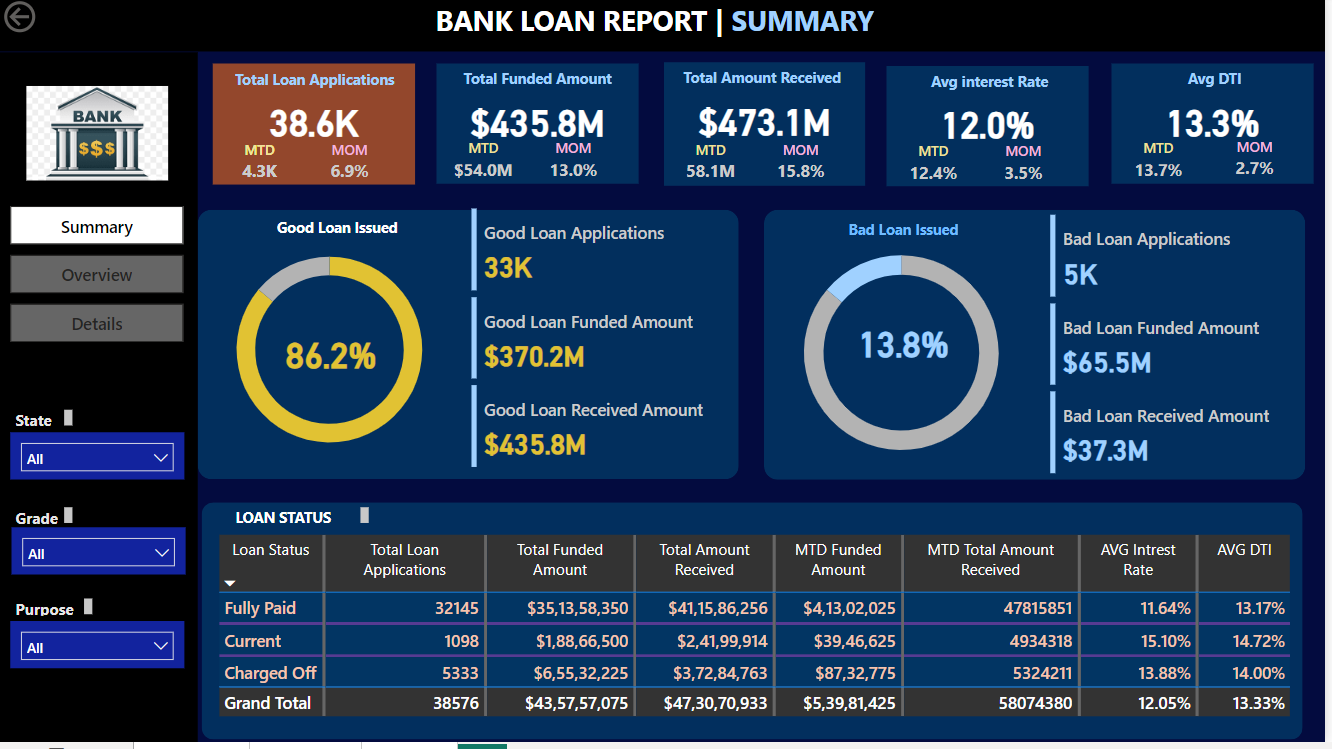

The dashboard page shown, as its layout file describes it:
{"tool":"powerbi","page":{"name":"Summary","canvas":[1280,720],"ordinal":0},"visuals":[{"type":"shape","box":[641.8,63.9,194.1,119.4],"z":0,"group":"g2"},{"type":"shape","box":[206.2,65.1,195.4,117],"z":0,"group":"g8"},{"type":"shape","box":[422.7,65.1,195,116],"z":0,"group":"g4"},{"type":"shape","box":[1073.4,65.1,195,116],"z":0,"group":"g5"},{"type":"shape","box":[856.9,67.5,195,116],"z":0,"group":"g7"},{"type":"shape","box":[191.8,206.2,522,260],"z":0},{"type":"shape","box":[0,0,1280.3,53.5],"z":1000},{"type":"card","fields":{"Values":["financial_loan.Total Amount Received"]},"box":[641.8,92.2,194.1,55.4],"z":1000,"group":"g2"},{"type":"card","fields":{"Values":["financial_loan.Total Funded Amount"]},"box":[422.7,92.6,195,53.8],"z":1000,"group":"g4"},{"type":"card","fields":{"Values":["financial_loan.AVG DTI"]},"box":[1073.4,92.6,195,53.8],"z":1000,"group":"g5"},{"type":"card","fields":{"Values":["financial_loan.Total Loan Applications"]},"box":[206.2,92.8,195.4,54.3],"z":1000,"group":"g8"},{"type":"card","fields":{"Values":["financial_loan.AVG Intrest Rate"]},"box":[856.9,95,195,53.8],"z":1000,"group":"g7"},{"type":"textbox","box":[777.5,211.2,189.3,31.4],"z":1000,"group":"g14"},{"type":"donutChart","fields":{"Category":["financial_loan.Good vs Bad Loan"],"Y":["financial_loan.Total Loan Applications"]},"box":[191,224,256.9,234],"z":1000,"group":"g13"},{"type":"textbox","box":[639.2,64,194.2,35],"z":2000,"group":"g2"},{"type":"textbox","box":[433.5,65.1,173.3,32.3],"z":2000,"group":"g4"},{"type":"textbox","box":[1084.2,65.1,173.3,32.3],"z":2000,"group":"g5"},{"type":"textbox","box":[209.5,66.2,189.3,31.4],"z":2000,"group":"g8"},{"type":"textbox","box":[867.7,67.5,173.3,32.3],"z":2000,"group":"g7"},{"type":"textbox","box":[0,105.8,189.3,31.4],"z":2000},{"type":"cardVisual","fields":{"Data":["financial_loan.Good Loan Applications","financial_loan.Good Loan Funded Amount","financial_loan.Good Loan Received Amount"]},"box":[451.4,200.2,253.3,260.5],"z":2000,"group":"g13"},{"type":"card","title":"MTD","fields":{"Values":["financial_loan.MTD Funded Amount"]},"box":[433.5,138.1,68.6,43],"z":3000,"group":"g4"},{"type":"card","title":"MTD","fields":{"Values":["financial_loan.MTD AVG DTI"]},"box":[1084.2,138.1,68.6,43],"z":3000,"group":"g5"},{"type":"card","title":"MTD","fields":{"Values":["financial_loan.MTD Loan Applications"]},"box":[217,138.7,68.7,43.4],"z":3000,"group":"g8"},{"type":"card","title":"MTD","fields":{"Values":["financial_loan.MTD Total Amount Received"]},"box":[652.6,139,68.3,44.3],"z":3000,"group":"g2"},{"type":"card","title":"MTD","fields":{"Values":["financial_loan.MTD AVG Intrest Rate"]},"box":[867.7,140.5,68.6,43],"z":3000,"group":"g7"},{"type":"textbox","box":[229.2,208.6,194.2,31.4],"z":3000},{"type":"shape","box":[0,54.3,191.8,665.7],"z":4000},{"type":"card","title":"MOM","fields":{"Values":["financial_loan.MOM Avg DTI"]},"box":[1176.6,135.8,68.7,43.4],"z":4000,"group":"g5"},{"type":"card","title":"MOM","fields":{"Values":["financial_loan.MOM Funded Amount"]},"box":[520.2,138.1,68.6,43],"z":4000,"group":"g4"},{"type":"card","title":"MOM","fields":{"Values":["financial_loan.MOM Loan Applications"]},"box":[303.9,138.7,68.7,43.4],"z":4000,"group":"g8"},{"type":"card","title":"MOM","fields":{"Values":["financial_loan.MOM Total Amount Received"]},"box":[738.9,139,68.3,44.3],"z":4000,"group":"g2"},{"type":"card","title":"MOM","fields":{"Values":["financial_loan.MOM Avg Intrest Rate"]},"box":[954.4,140.5,68.6,43],"z":4000,"group":"g7"},{"type":"group","id":"g1","title":"Group 2","box":[639.2,63.9,196.7,119.4],"z":4007,"group":"g11"},{"type":"group","id":"g2","title":"Group 3","box":[639.2,63.9,196.7,119.4],"z":4007,"group":"g1"},{"type":"group","id":"g3","title":"Group 2","box":[422.7,65.1,195,116],"z":4007,"group":"g10"},{"type":"group","id":"g4","title":"Group 3","box":[422.7,65.1,195,116],"z":4007,"group":"g3"},{"type":"group","id":"g5","title":"Group 3","box":[1073.4,65.1,195,116],"z":4007,"group":"g9"},{"type":"group","id":"g6","title":"Group 2","box":[856.9,67.5,195,116],"z":4007,"group":"g12"},{"type":"group","id":"g7","title":"Group 3","box":[856.9,67.5,195,116],"z":4007,"group":"g6"},{"type":"card","fields":{"Values":["financial_loan.Good Loan %"]},"box":[255.7,318.4,129.1,53.1],"z":5000},{"type":"textbox","box":[416.1,0,448.6,49.5],"z":6000},{"type":"group","id":"g8","title":"Group 1","box":[206.2,65.1,195.4,117],"z":7000},{"type":"card","title":"MTD","fields":{"Values":["financial_loan.MTD Loan Applications"]},"box":[217.1,138.7,68.7,43.4],"z":8000},{"type":"group","id":"g9","title":"Group 2","box":[1073.4,65.1,195.4,115.8],"z":9000},{"type":"group","id":"g10","title":"Group 1","box":[422.7,65.1,195.4,115.8],"z":10000},{"type":"group","id":"g11","title":"Group 1","box":[639.2,63.9,196.6,119.4],"z":11000},{"type":"group","id":"g12","title":"Group 1","box":[856.9,67.5,195.4,115.8],"z":12000},{"type":"shape","box":[738.1,206.2,522.2,260.5],"z":13000},{"type":"donutChart","fields":{"Category":["financial_loan.Good vs Bad Loan"],"Y":["financial_loan.Total Loan Applications"]},"box":[740.5,221.9,260.5,244.8],"z":13000,"group":"g14"},{"type":"group","id":"g13","title":"Group 4","box":[191,200.2,513.6,260.5],"z":14000},{"type":"cardVisual","fields":{"Data":["financial_loan.Bad Loan Applications","financial_loan.Bad Loan Funded Amount","financial_loan.Bad Loan Received Amount"]},"box":[1009.4,206.2,253.3,260.5],"z":14000,"group":"g14"},{"type":"shape","box":[195.4,488.4,1062.5,229.2],"z":15000},{"type":"group","id":"g14","title":"Group 4","box":[740.5,206.2,522.2,260.5],"z":16000},{"type":"card","fields":{"Values":["financial_loan.Bad Loan %"]},"box":[808,307.5,129.1,53.1],"z":17000},{"type":"tableEx","fields":{"Values":["financial_loan.loan_status","financial_loan.Total Loan Applications","financial_loan.Total Funded Amount","financial_loan.Total Amount Received","financial_loan.MTD Funded Amount","financial_loan.MTD Total Amount Received","financial_loan.AVG Intrest Rate","financial_loan.AVG DTI"]},"box":[206.2,515,1056.5,197.8],"z":18000},{"type":"actionButton","box":[0,0,100,40],"z":19000},{"type":"textbox","box":[223.1,488.4,138.7,26.5],"z":20000},{"type":"slicer","fields":{"Values":["financial_loan.address_state"]},"box":[10.8,420.9,167.6,45.8],"z":21000},{"type":"textbox","box":[10.8,394.4,65.1,26.5],"z":22000},{"type":"slicer","fields":{"Values":["financial_loan.grade"]},"box":[12.1,512,167.6,45.8],"z":23000},{"type":"textbox","box":[10.8,488.4,65.1,26.5],"z":24000},{"type":"slicer","fields":{"Values":["financial_loan.purpose"]},"box":[10.8,603,167.6,45.8],"z":25000},{"type":"textbox","box":[10.8,576.5,84.4,26.5],"z":26000},{"type":"image","box":[0,82,189.3,101.3],"z":27000},{"type":"pageNavigator","box":[10.8,202.6,167.6,133.9],"z":28000}]}

Visuals, with their boxes in screenshot pixels (x1, y1, x2, y2), scaled from the page's 1280x720 canvas onto the 1332x749 screenshot:
shape: {"left": 668, "top": 66, "right": 870, "bottom": 191}
shape: {"left": 215, "top": 68, "right": 418, "bottom": 189}
shape: {"left": 440, "top": 68, "right": 643, "bottom": 188}
shape: {"left": 1117, "top": 68, "right": 1320, "bottom": 188}
shape: {"left": 892, "top": 70, "right": 1095, "bottom": 191}
shape: {"left": 200, "top": 215, "right": 743, "bottom": 485}
shape: {"left": 0, "top": 0, "right": 1331, "bottom": 56}
card - financial_loan.Total Amount Received: {"left": 668, "top": 96, "right": 870, "bottom": 154}
card - financial_loan.Total Funded Amount: {"left": 440, "top": 96, "right": 643, "bottom": 152}
card - financial_loan.AVG DTI: {"left": 1117, "top": 96, "right": 1320, "bottom": 152}
card - financial_loan.Total Loan Applications: {"left": 215, "top": 97, "right": 418, "bottom": 153}
card - financial_loan.AVG Intrest Rate: {"left": 892, "top": 99, "right": 1095, "bottom": 155}
textbox: {"left": 809, "top": 220, "right": 1006, "bottom": 252}
donutChart - financial_loan.Good vs Bad Loan x financial_loan.Total Loan Applications: {"left": 199, "top": 233, "right": 466, "bottom": 476}
textbox: {"left": 665, "top": 67, "right": 867, "bottom": 103}
textbox: {"left": 451, "top": 68, "right": 631, "bottom": 101}
textbox: {"left": 1128, "top": 68, "right": 1309, "bottom": 101}
textbox: {"left": 218, "top": 69, "right": 415, "bottom": 102}
textbox: {"left": 903, "top": 70, "right": 1083, "bottom": 104}
textbox: {"left": 0, "top": 110, "right": 197, "bottom": 143}
cardVisual - financial_loan.Good Loan Applications x financial_loan.Good Loan Funded Amount: {"left": 470, "top": 208, "right": 733, "bottom": 479}
"MTD" card: {"left": 451, "top": 144, "right": 522, "bottom": 188}
"MTD" card: {"left": 1128, "top": 144, "right": 1200, "bottom": 188}
"MTD" card: {"left": 226, "top": 144, "right": 297, "bottom": 189}
"MTD" card: {"left": 679, "top": 145, "right": 750, "bottom": 191}
"MTD" card: {"left": 903, "top": 146, "right": 974, "bottom": 191}
textbox: {"left": 239, "top": 217, "right": 441, "bottom": 250}
shape: {"left": 0, "top": 56, "right": 200, "bottom": 748}
"MOM" card: {"left": 1224, "top": 141, "right": 1296, "bottom": 186}
"MOM" card: {"left": 541, "top": 144, "right": 613, "bottom": 188}
"MOM" card: {"left": 316, "top": 144, "right": 388, "bottom": 189}
"MOM" card: {"left": 769, "top": 145, "right": 840, "bottom": 191}
"MOM" card: {"left": 993, "top": 146, "right": 1065, "bottom": 191}
"Group 2" group: {"left": 665, "top": 66, "right": 870, "bottom": 191}
"Group 3" group: {"left": 665, "top": 66, "right": 870, "bottom": 191}
"Group 2" group: {"left": 440, "top": 68, "right": 643, "bottom": 188}
"Group 3" group: {"left": 440, "top": 68, "right": 643, "bottom": 188}
"Group 3" group: {"left": 1117, "top": 68, "right": 1320, "bottom": 188}
"Group 2" group: {"left": 892, "top": 70, "right": 1095, "bottom": 191}
"Group 3" group: {"left": 892, "top": 70, "right": 1095, "bottom": 191}
card - financial_loan.Good Loan %: {"left": 266, "top": 331, "right": 400, "bottom": 386}
textbox: {"left": 433, "top": 0, "right": 900, "bottom": 51}
"Group 1" group: {"left": 215, "top": 68, "right": 418, "bottom": 189}
"MTD" card: {"left": 226, "top": 144, "right": 297, "bottom": 189}
"Group 2" group: {"left": 1117, "top": 68, "right": 1320, "bottom": 188}
"Group 1" group: {"left": 440, "top": 68, "right": 643, "bottom": 188}
"Group 1" group: {"left": 665, "top": 66, "right": 870, "bottom": 191}
"Group 1" group: {"left": 892, "top": 70, "right": 1095, "bottom": 191}
shape: {"left": 768, "top": 215, "right": 1311, "bottom": 485}
donutChart - financial_loan.Good vs Bad Loan x financial_loan.Total Loan Applications: {"left": 771, "top": 231, "right": 1042, "bottom": 485}
"Group 4" group: {"left": 199, "top": 208, "right": 733, "bottom": 479}
cardVisual - financial_loan.Bad Loan Applications x financial_loan.Bad Loan Funded Amount: {"left": 1050, "top": 215, "right": 1314, "bottom": 485}
shape: {"left": 203, "top": 508, "right": 1309, "bottom": 747}
"Group 4" group: {"left": 771, "top": 215, "right": 1314, "bottom": 485}
card - financial_loan.Bad Loan %: {"left": 841, "top": 320, "right": 975, "bottom": 375}
tableEx - financial_loan.loan_status x financial_loan.Total Loan Applications: {"left": 215, "top": 536, "right": 1314, "bottom": 742}
actionButton: {"left": 0, "top": 0, "right": 104, "bottom": 42}
textbox: {"left": 232, "top": 508, "right": 376, "bottom": 536}
slicer - financial_loan.address_state: {"left": 11, "top": 438, "right": 186, "bottom": 485}
textbox: {"left": 11, "top": 410, "right": 79, "bottom": 438}
slicer - financial_loan.grade: {"left": 13, "top": 533, "right": 187, "bottom": 580}
textbox: {"left": 11, "top": 508, "right": 79, "bottom": 536}
slicer - financial_loan.purpose: {"left": 11, "top": 627, "right": 186, "bottom": 675}
textbox: {"left": 11, "top": 600, "right": 99, "bottom": 627}
image: {"left": 0, "top": 85, "right": 197, "bottom": 191}
pageNavigator: {"left": 11, "top": 211, "right": 186, "bottom": 350}
